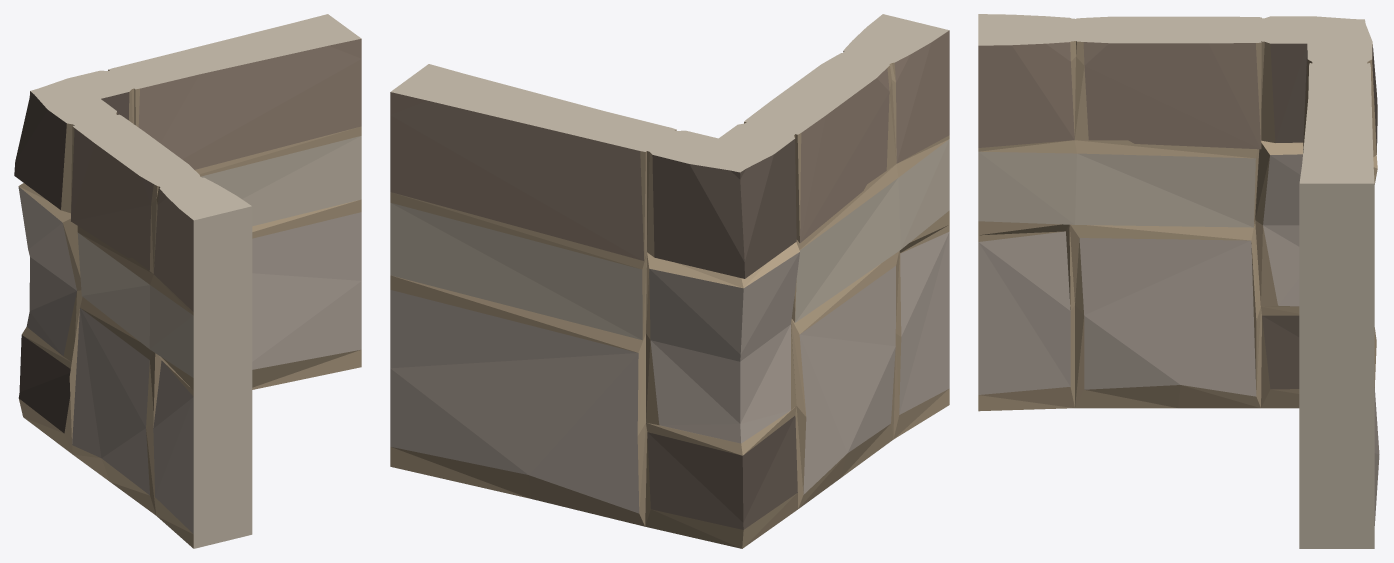
The model's file is RG-Dungeon_Corner-small_wall-03.fbx.
3 views of the same model, side by side, from view 1: azimuth 30°, elevation 25°; view 2: azimuth 150°, elevation 25°; view 3: azimuth 270°, elevation 25° (orthographic). The views are drawn at different scales.
Visible parts, largest first — view 1: RG-Dungeon_Corner-small_wall-03; view 2: RG-Dungeon_Corner-small_wall-03; view 3: RG-Dungeon_Corner-small_wall-03.
Boxes of the visible parts, bbox=[...] form: RG-Dungeon_Corner-small_wall-03: bbox=[14, 14, 361, 548]; RG-Dungeon_Corner-small_wall-03: bbox=[390, 14, 949, 548]; RG-Dungeon_Corner-small_wall-03: bbox=[978, 14, 1379, 548].
Bounding box in the file's own units: 10.04 × 10.05 × 10.
